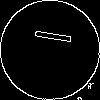I: (25, 25, 72, 47)
